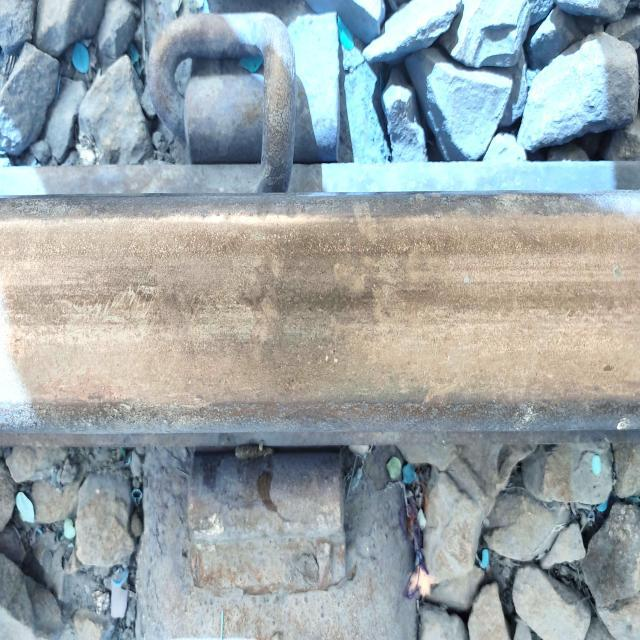Good Fasteners: (118, 6, 413, 219)
Missing Fastener: (143, 433, 420, 636)
